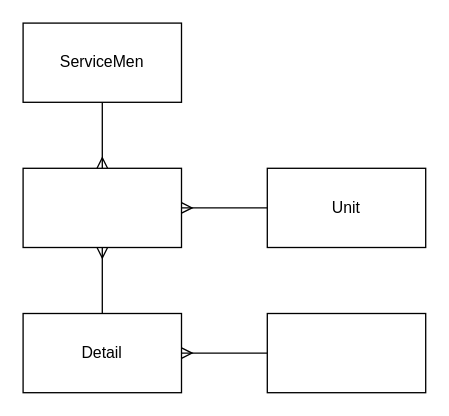
This 449x416 diagram has some shape labels left out. The shapes that lost their labels are listed below. From the top down, each one's box as (x1, y1, x2, y2) in pixels, then its label:
(22, 167, 182, 248): Score
(266, 312, 426, 393): Range
